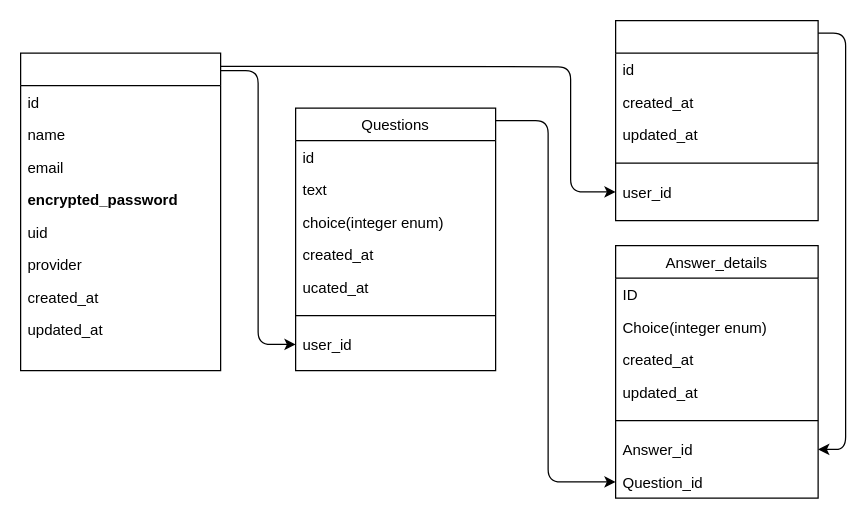
The diagram is 866 pixels wide and 519 high, and some of its shapes have lost their labels. The shapes that lost their labels are listed below. From the top down, each one's box as (x1, y1, x2, y2) in pixels, then its label:
(614, 19, 818, 221): Answers
(19, 52, 221, 371): Users
